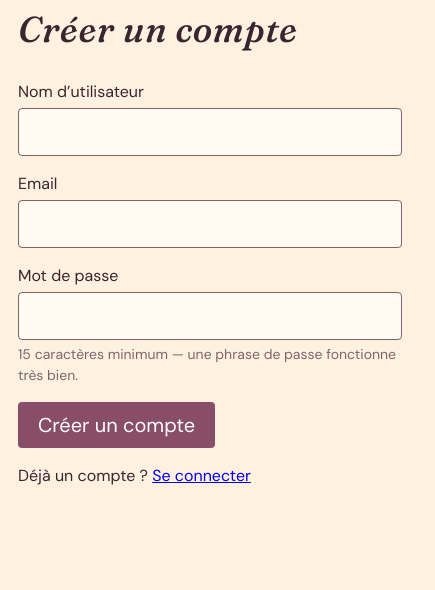
Test: RegisterPage › affiche une erreur si le nom d’utilisateur ou l’email est déjà pris
In the field labelled "Nom d’utilisateur": coordinates (210, 132) [18, 108, 402, 156], type "marcel"
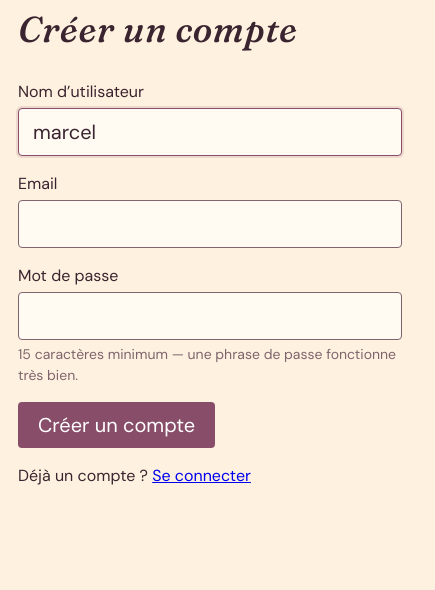
In the field labelled "Email": coordinates (210, 224) [18, 200, 402, 248], type "marcel@example.com"
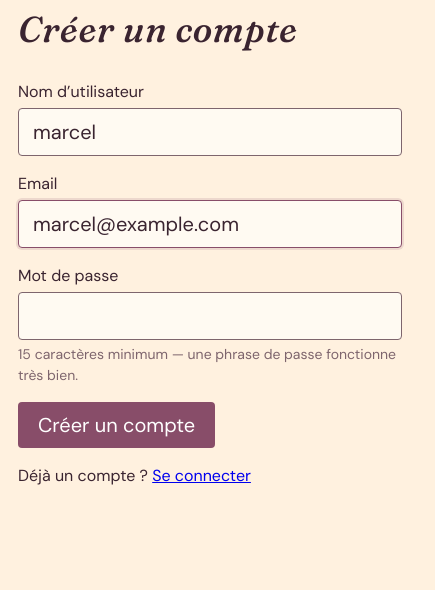
In the password field labelled "Mot de passe": coordinates (210, 316) [18, 292, 402, 340], type "hunter2222password"
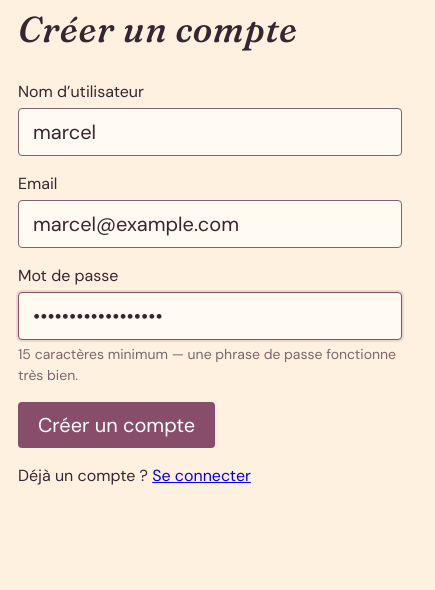
Click the button "Créer un compte": coordinates (117, 425) [18, 402, 215, 448]
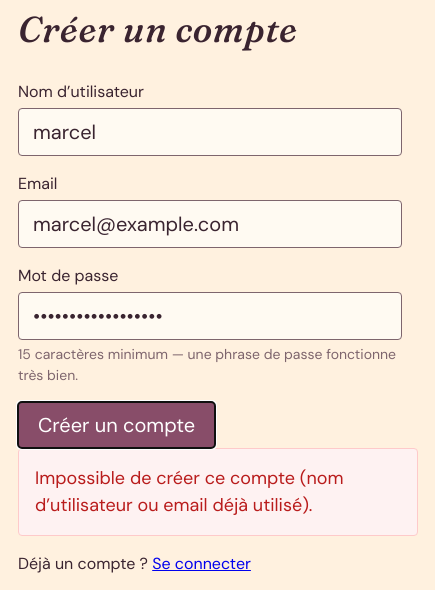
Check: the text "Impossible de créer ce compte (nom d’utilisateur ou email déjà utilisé)." is shown, box [18, 448, 418, 536]
